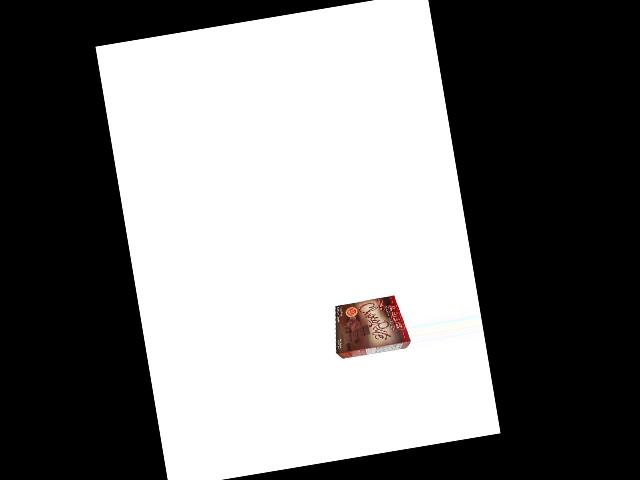chocolate: (328, 293, 409, 359)
